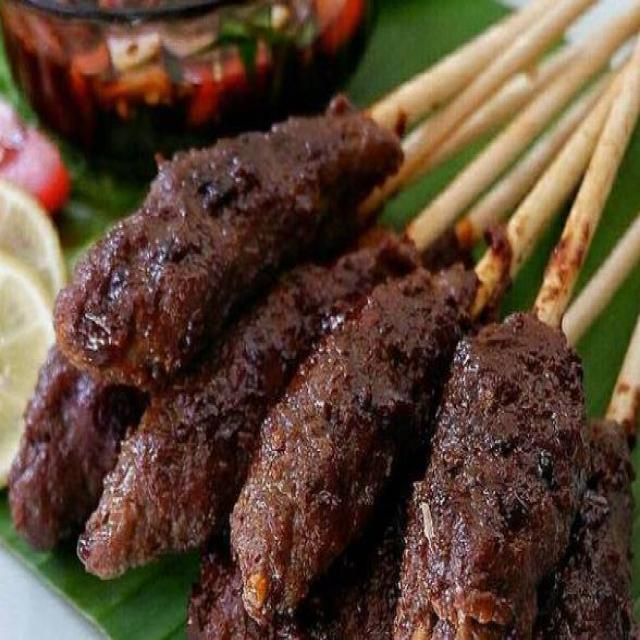Sate: (0, 72, 639, 640)
